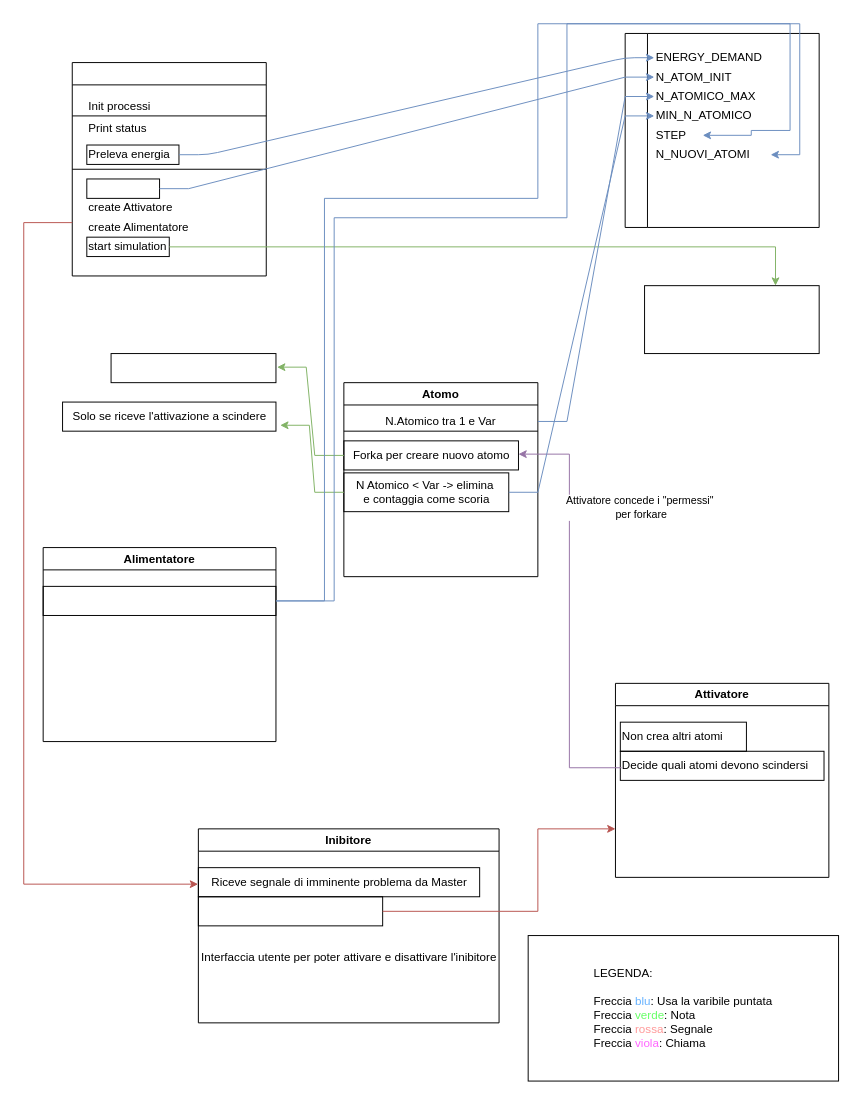
Some shapes in this 856 by 1098 pixel diagram are drawn without their labels. The box of each missing label's shape, as (x1, y1, x2, y2) in pixels:
create atomi: (86, 178, 160, 198)
Invia segnale a attivatore (stop): (197, 896, 383, 926)
Master: (71, 62, 266, 276)
Ogni STEP nSec crea N_NUOVI_ATOMI: (42, 585, 276, 615)
Questo crea nuova energia: (110, 353, 276, 383)
Solo dopo che tutti i processi sono stati inizializzati con successo: (644, 285, 819, 354)
Variabili: (624, 32, 819, 227)
